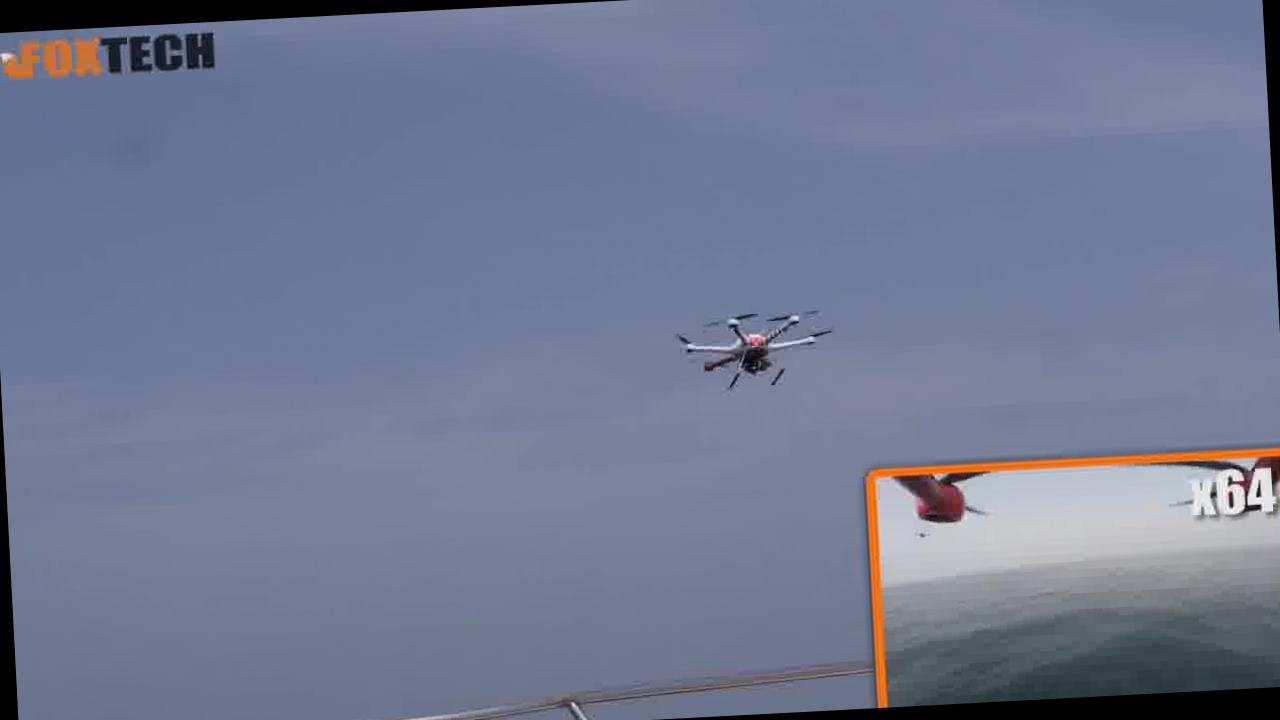drone: (669, 286, 860, 393)
